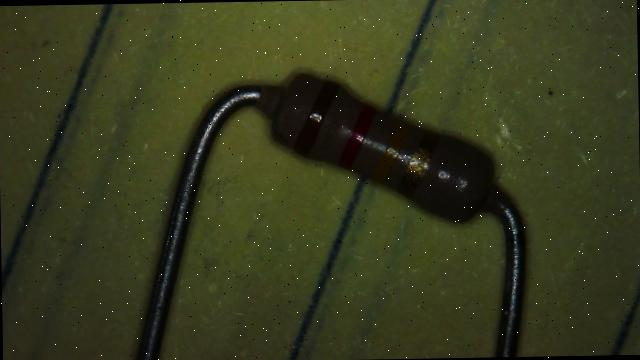brown: (293, 80, 340, 156)
gold: (398, 130, 438, 198)
red: (337, 103, 378, 170)
resistor: (236, 42, 525, 247)
yellow: (374, 118, 414, 184)
